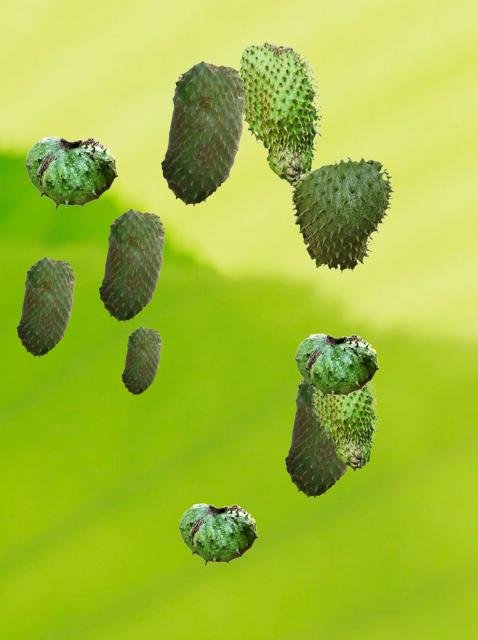guyabano: (160, 60, 246, 205), (291, 156, 394, 273), (239, 40, 322, 185), (98, 208, 165, 321), (284, 377, 347, 497), (24, 136, 117, 209), (311, 378, 378, 470), (16, 256, 75, 356), (294, 333, 378, 398), (178, 503, 257, 565), (121, 326, 161, 394)
